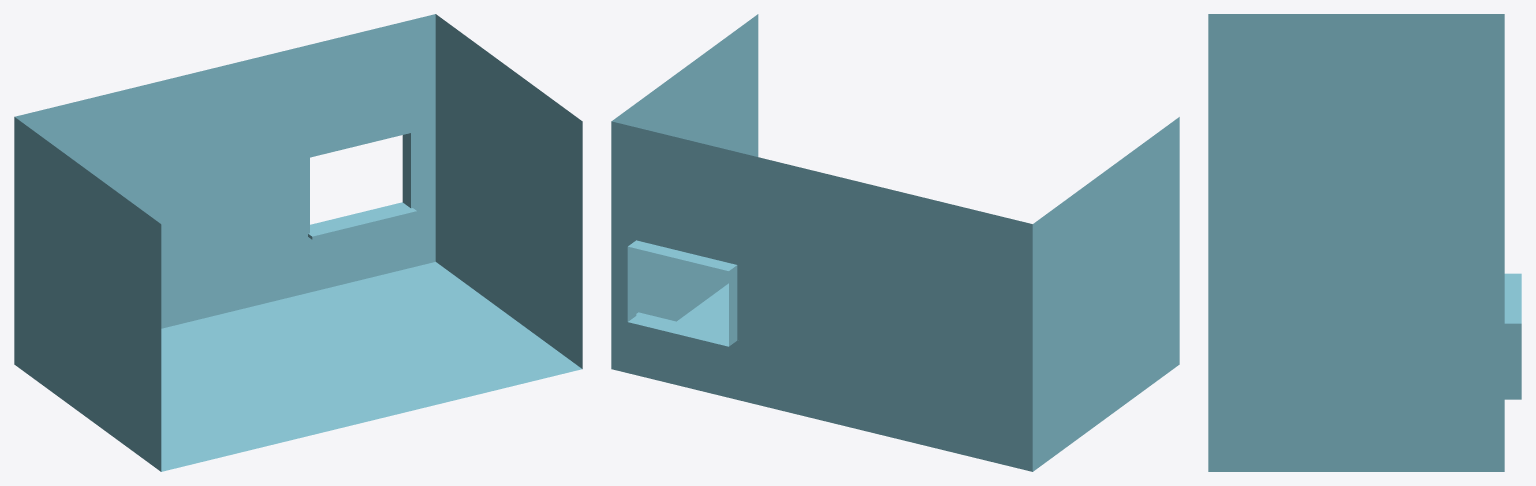
File: Room.fbx
3 views of the same model, side by side, from view 1: azimuth 30°, elevation 25°; view 2: azimuth 150°, elevation 25°; view 3: azimuth 270°, elevation 25° (orthographic).
Parts seen in each view (by area): view 1: Wall&Floor; view 2: Wall&Floor; view 3: Wall&Floor.
Boxes of the visible parts, x1,y1,x2,y2 form: Wall&Floor: (14,14,582,471); Wall&Floor: (611,14,1179,471); Wall&Floor: (1208,14,1521,471).
Bounding box in the file's own units: 580 × 326 × 370.
